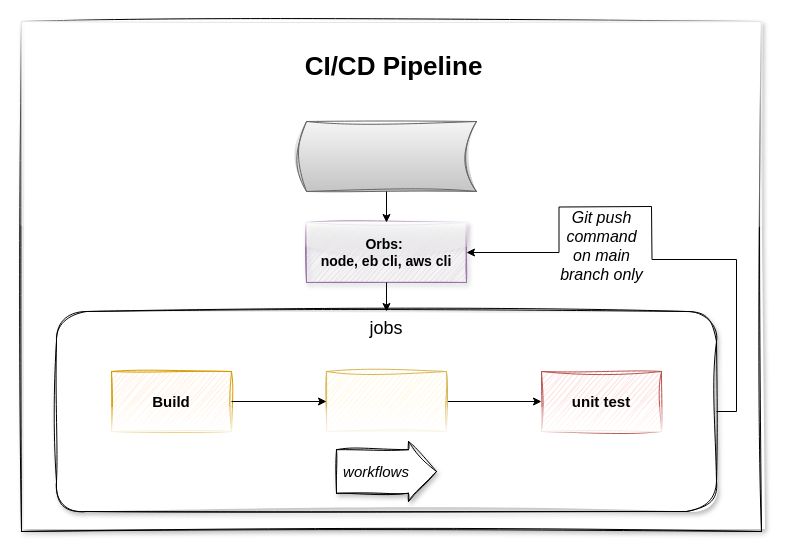
This 785x556 diagram has some shape labels left out. The shapes that lost their labels are listed below. From the top down, each one's centre as x and y in pixels, then its label:
At (x=386, y=156): "Environment Variables".
At (x=386, y=401): "Deploy".
